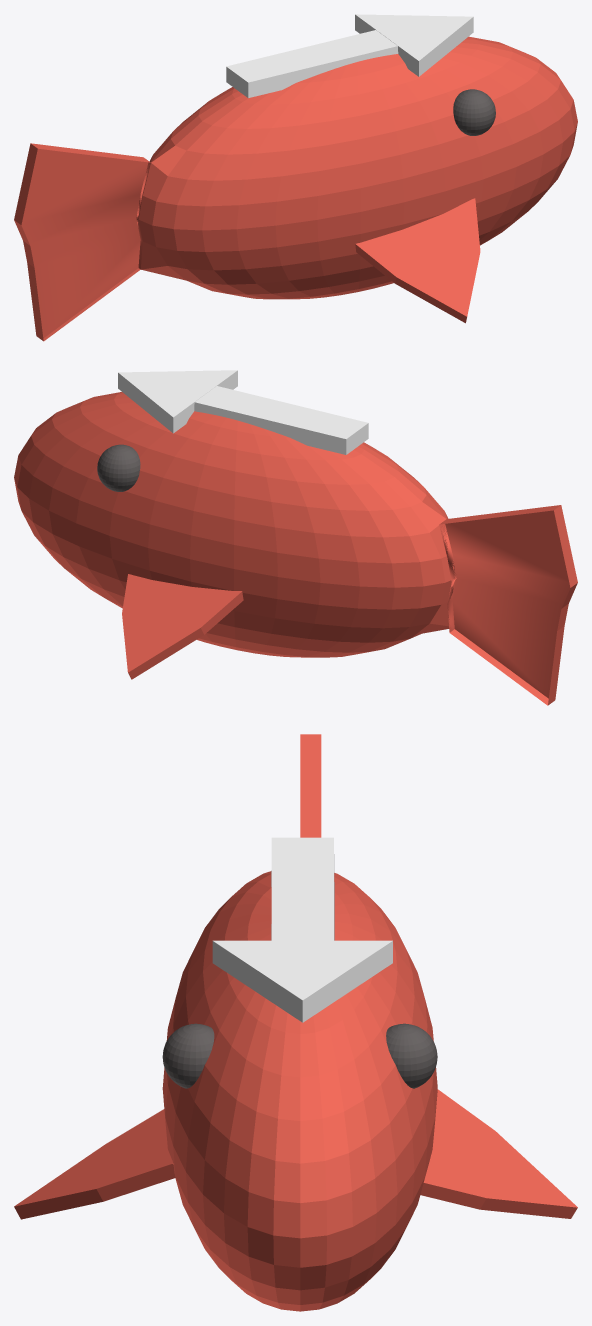
Rendered from MidFishRed.fbx.
The picture shows the model from 3 angles, top to bottom: view 1: azimuth 30°, elevation 25°; view 2: azimuth 150°, elevation 25°; view 3: azimuth 270°, elevation 25°; orthographic projection. The views are drawn at different scales.
Parts seen in each view (by area): view 1: Сфера.004; view 2: Сфера.004; view 3: Сфера.004.
Boxes of the visible parts, box(x1,y1,x2,y2) form: Сфера.004: box(14, 14, 577, 341); Сфера.004: box(14, 370, 577, 705); Сфера.004: box(14, 734, 577, 1311).
Size of the model in its own units: 508 by 209 by 318.
